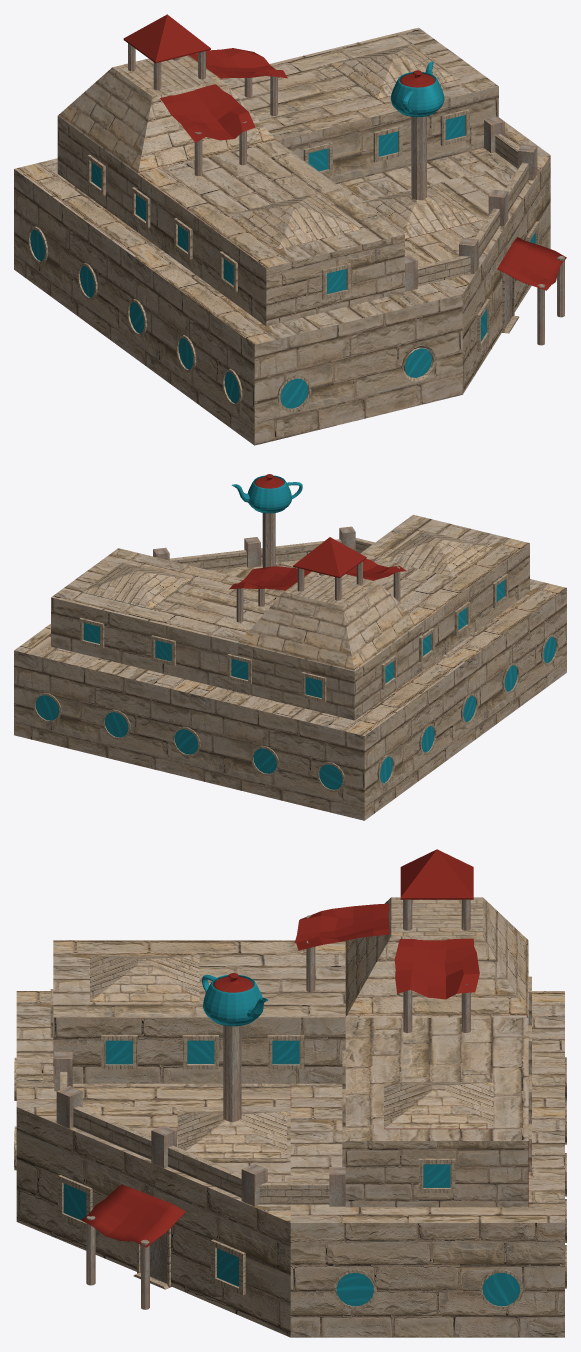
Rendered from Cafe.fbx.
The picture shows the model from 3 angles, top to bottom: view 1: azimuth 30°, elevation 25°; view 2: azimuth 150°, elevation 25°; view 3: azimuth 270°, elevation 25°; orthographic projection. The views are drawn at different scales.
Parts seen in each view (by area): view 1: Teapot, Cube.003_Cube.008; view 2: Teapot, Cube.003_Cube.008; view 3: Teapot, Cube.003_Cube.008.
Part boxes in pixels (box(x1,y1,x2,y2)): Teapot: box(57, 14, 537, 326); Cube.003_Cube.008: box(14, 122, 566, 445); Teapot: box(51, 474, 529, 720); Cube.003_Cube.008: box(14, 560, 566, 820); Teapot: box(50, 849, 531, 1207); Cube.003_Cube.008: box(14, 991, 566, 1337).
Bounding box in the file's own units: 1512 × 938 × 1512.
2 materials, 2 textured.
